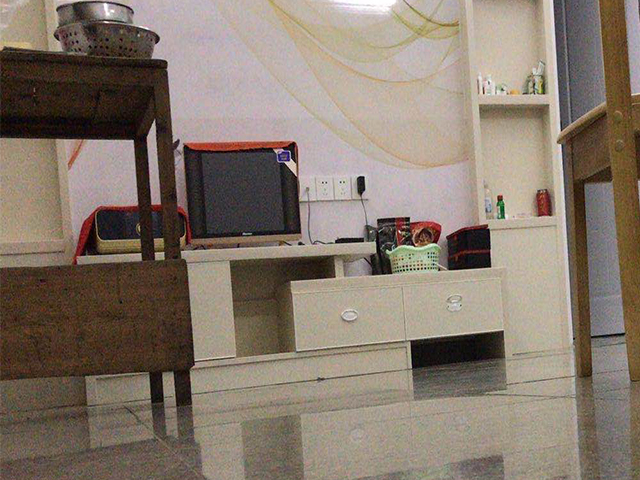cabinet: (64, 213, 576, 408)
stool: (556, 1, 640, 384)
table: (1, 46, 196, 411)
